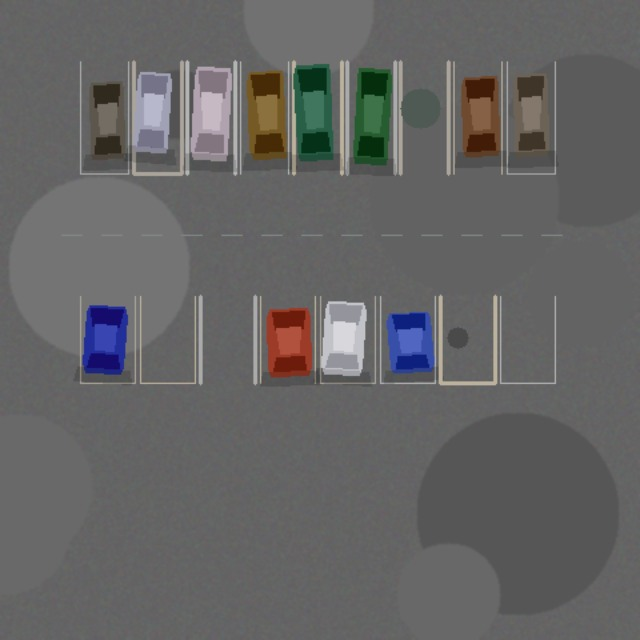space-empty: (400, 61, 448, 173), (140, 296, 195, 383), (200, 296, 255, 383), (440, 296, 495, 383), (500, 296, 555, 383)
space-occupied: (80, 61, 128, 173), (133, 61, 181, 173), (187, 61, 235, 173), (240, 61, 288, 173), (293, 61, 341, 173), (347, 61, 395, 173), (453, 61, 501, 173), (507, 61, 555, 173), (80, 296, 135, 383), (260, 296, 315, 383), (320, 296, 375, 383), (380, 296, 435, 383)
